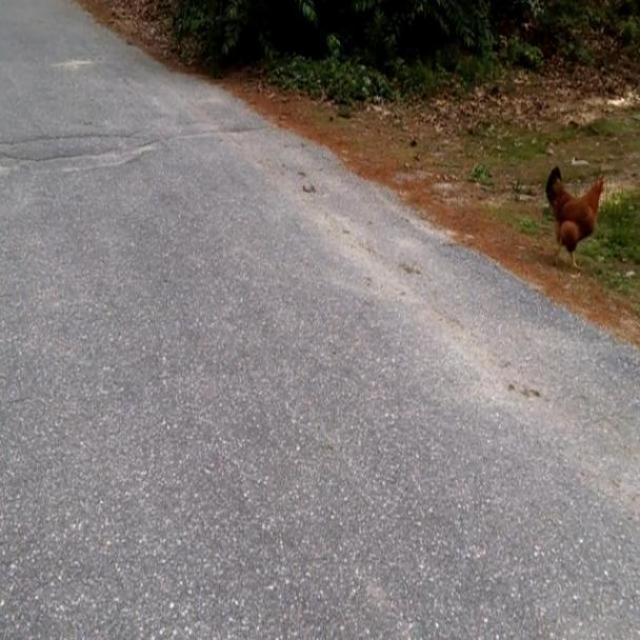Chicken: (544, 166, 606, 270)
